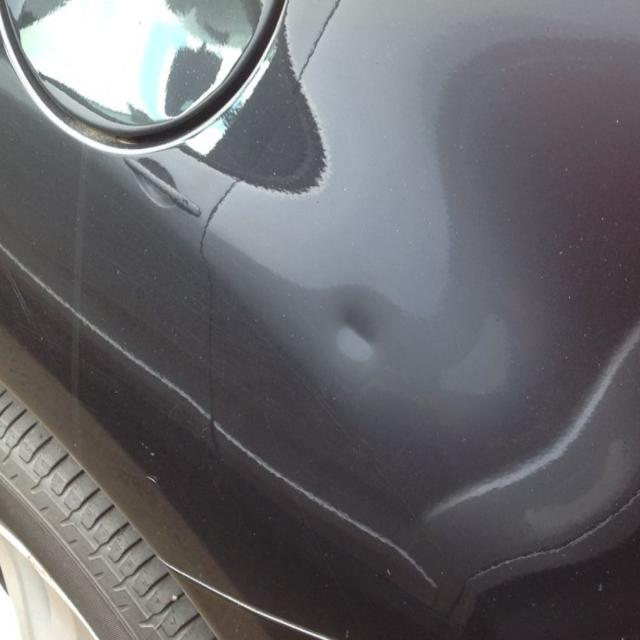dents: (313, 281, 438, 364)
